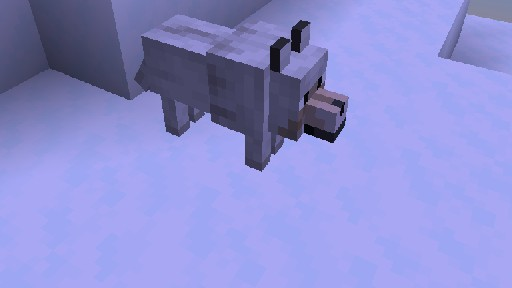wolf: (133, 13, 349, 186)
